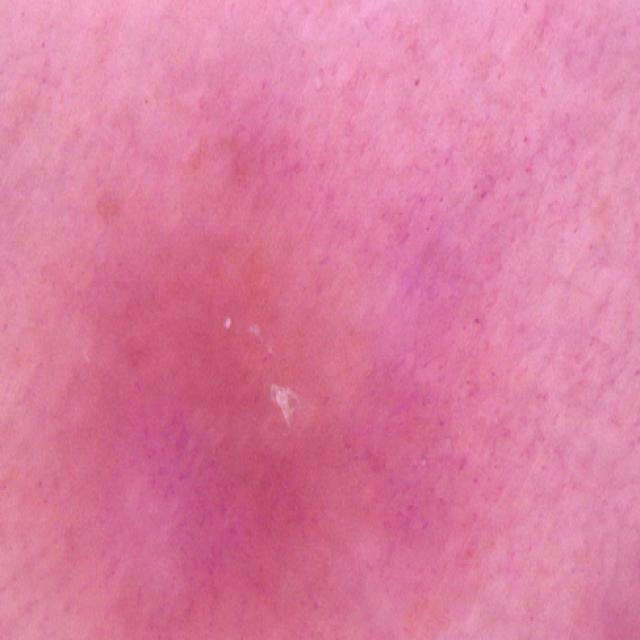Dermatofibroma: (102, 215, 484, 596)
